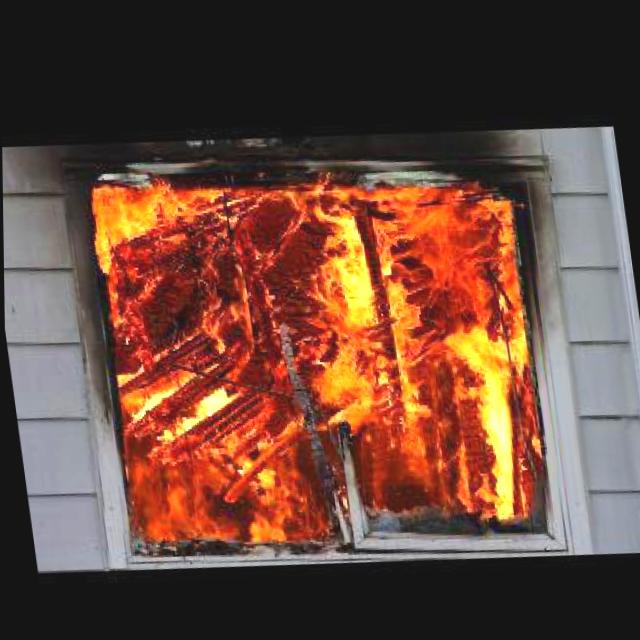Fire: (77, 123, 558, 577)
